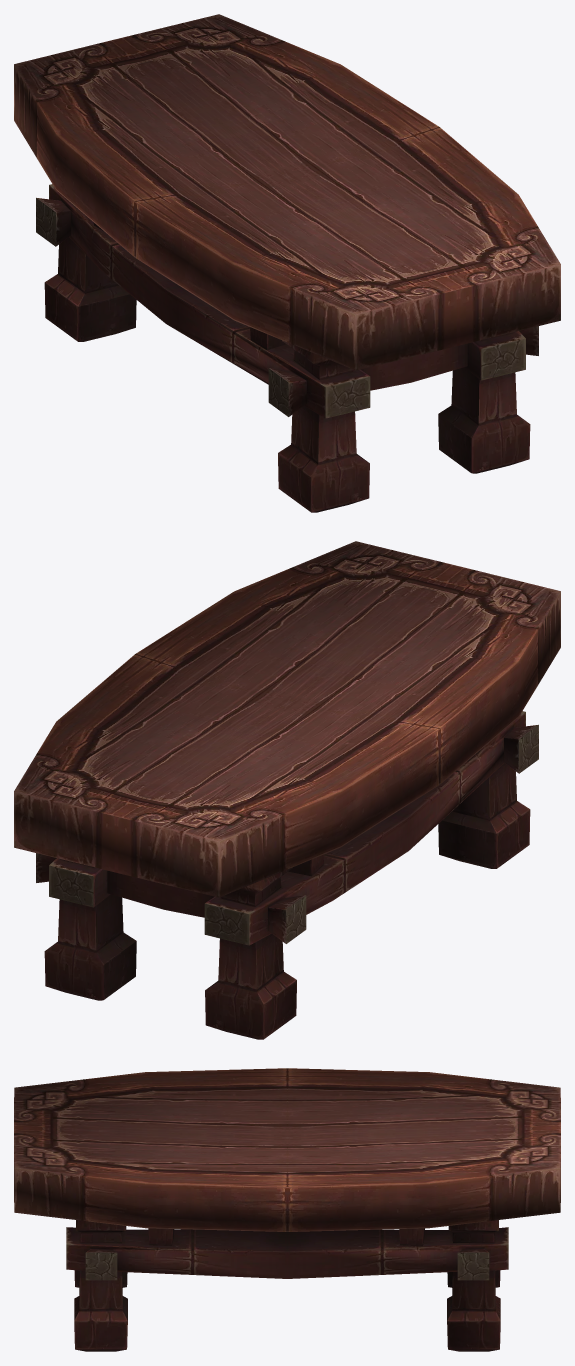
The picture shows the model from 3 angles, top to bottom: view 1: azimuth 30°, elevation 25°; view 2: azimuth 150°, elevation 25°; view 3: azimuth 270°, elevation 25°; orthographic projection. The views are drawn at different scales.
Bounding box in the file's own units: 1.76 × 1.29 × 3.42.
Materials: 1 (1 with a texture image).
